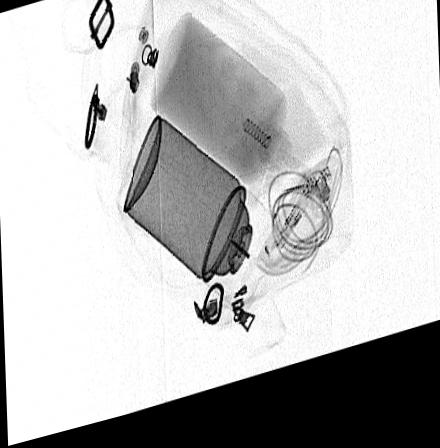Sprayer: (122, 121, 278, 323)
